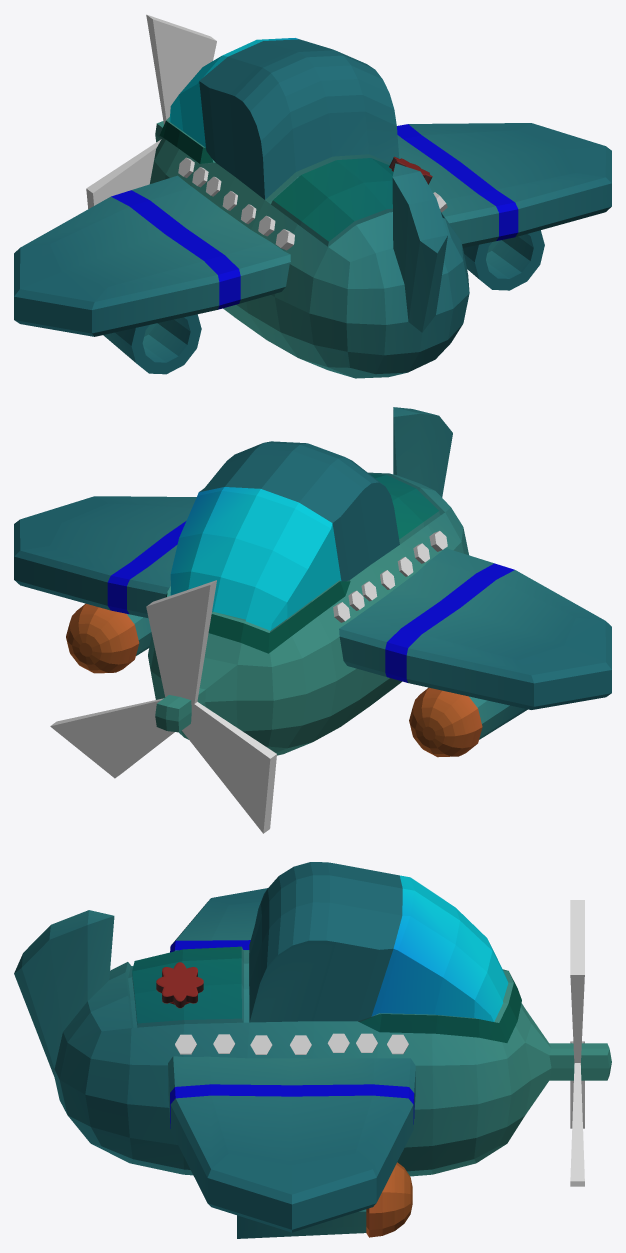
Rendered from самолет 2.fbx.
3 views of the same model, one above another, from view 1: azimuth 30°, elevation 25°; view 2: azimuth 150°, elevation 25°; view 3: azimuth 270°, elevation 25° (orthographic). The views are drawn at different scales.
Visible parts, largest first — view 1: Cube.003, Cube.004, Cylinder.004, Cube.005, Cylinder.003; view 2: Cube.003, Cube.004, Cube.005, Cylinder.004, Cylinder.003; view 3: Cube.003, Cube.004, Cylinder.004, Cube.005, Cylinder.003, Cylinder.002.
Boxes of the visible parts, x1,y1,x2,y2 form: Cube.003: (150, 38, 469, 378); Cube.004: (14, 123, 611, 336); Cylinder.004: (103, 230, 544, 374); Cube.005: (86, 14, 216, 208); Cylinder.003: (178, 157, 447, 250); Cube.003: (148, 407, 468, 755); Cube.004: (14, 496, 611, 709); Cube.005: (50, 580, 276, 833); Cylinder.004: (66, 603, 527, 757); Cylinder.003: (333, 531, 447, 622); Cube.003: (14, 862, 611, 1176); Cube.004: (168, 888, 415, 1232); Cylinder.004: (237, 1162, 412, 1238); Cube.005: (570, 900, 584, 1186); Cylinder.003: (175, 1033, 408, 1054); Cylinder.002: (156, 962, 203, 1008).
Bounding box in the file's own units: 592 × 261 × 472.
